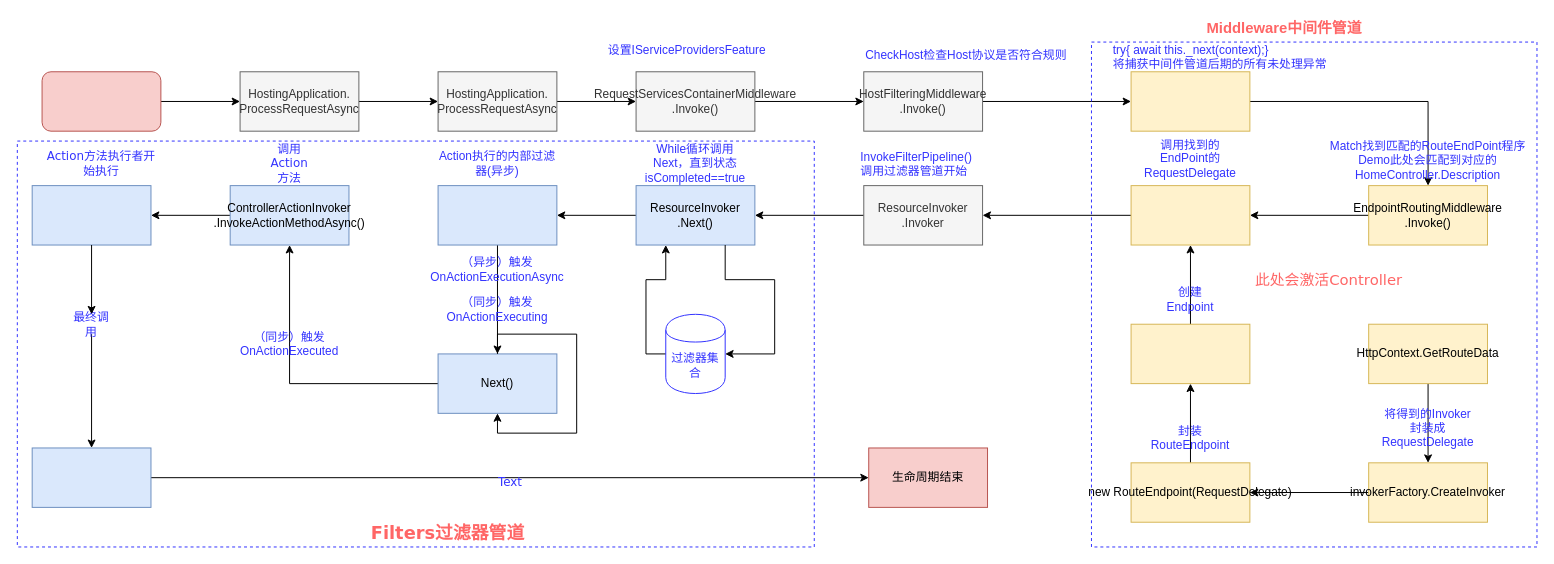
Image size: 1554x564. Some labels were removed from this diagram. Here are the shapes that lost their labels. From the top down, the centre of each, then its label:
the point at 101,101: ExecutionContext.Run()
the point at 1190,101: DeveloperExceptionPageMiddleware .Invoke()
the point at 91,215: ActionMethodExecutor .Execute()
the point at 497,215: ControllerActionInvoker .InvokeInnerFilterAsync()
the point at 1190,215: EndpointMiddleware .Invoke()
the point at 1190,353: MvcEndpointDataSource .CreateEndpoint()
the point at 91,477: ObjectMethodExecutor .Execute()
